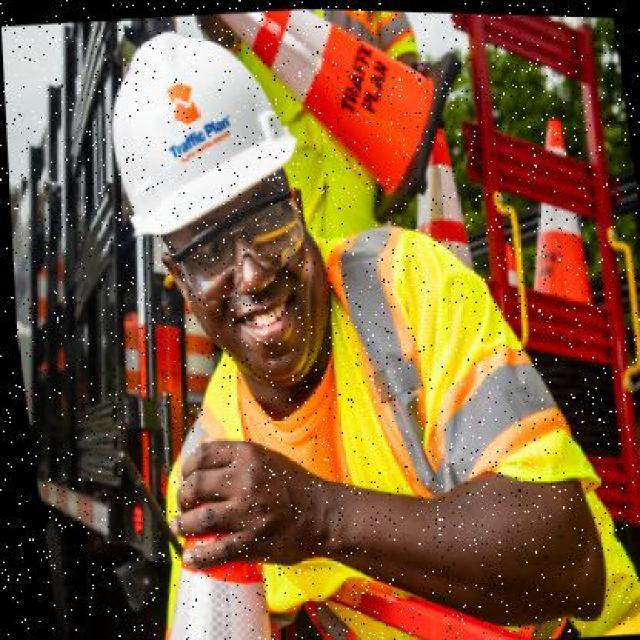helmet: (89, 12, 314, 250)
vest: (176, 292, 639, 634)
